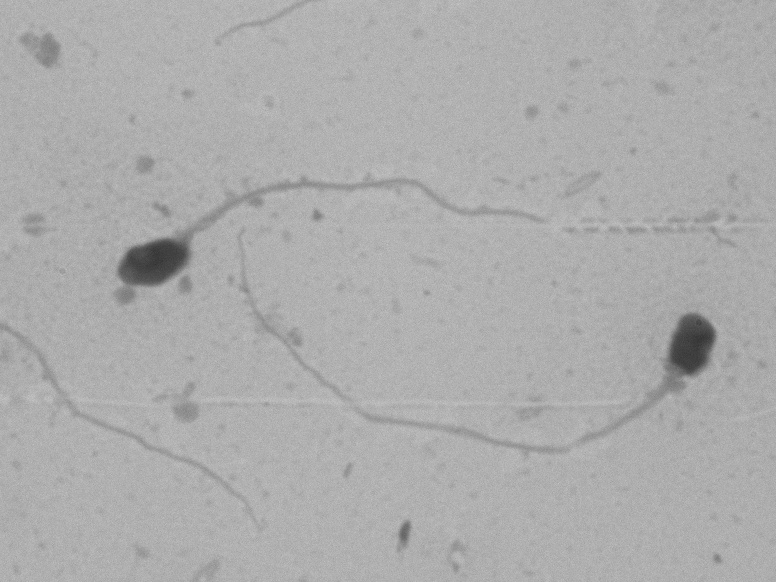Abnormal: (225, 247, 735, 477), (104, 147, 559, 311)
